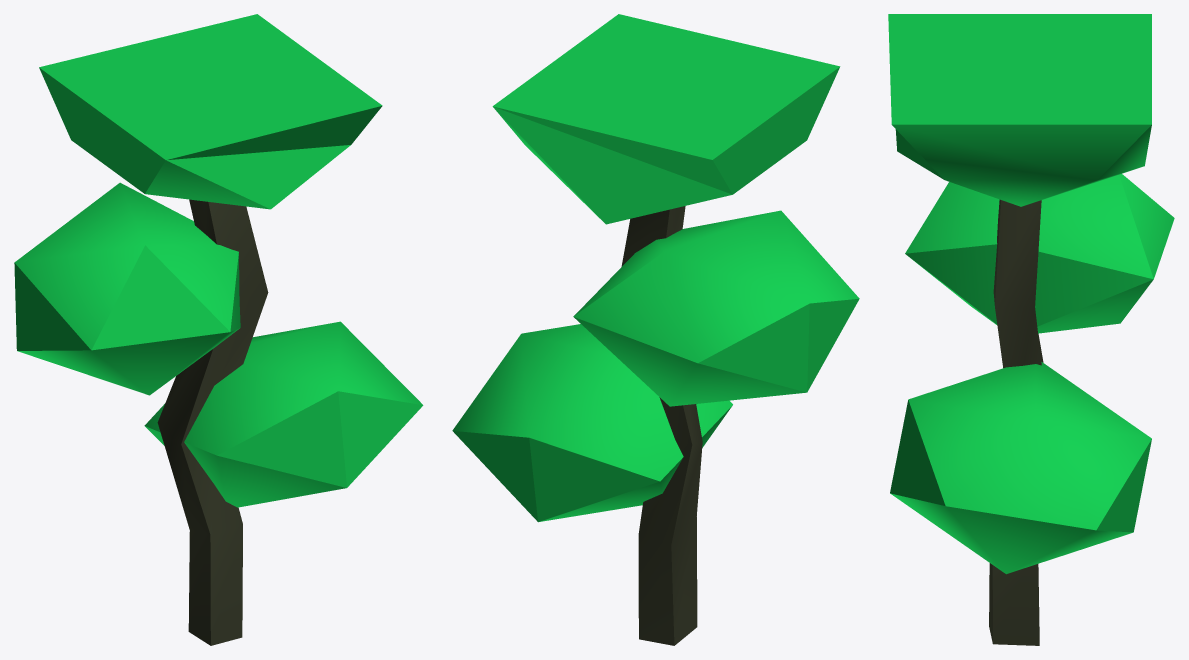
The model's file is 平面树.fbx.
3 renders of one model, left to right at view 1: azimuth 30°, elevation 25°; view 2: azimuth 150°, elevation 25°; view 3: azimuth 270°, elevation 25°, orthographic. The views are drawn at different scales.
Parts seen in each view (by area): view 1: 立方体_1; view 2: 立方体_1; view 3: 立方体_1.
Part boxes in pixels (x1=…): 立方体_1: x1=14, y1=14, x2=423, y2=645; 立方体_1: x1=452, y1=14, x2=859, y2=645; 立方体_1: x1=888, y1=14, x2=1174, y2=645.
Size of the model in its own units: 285 by 430 by 197.
